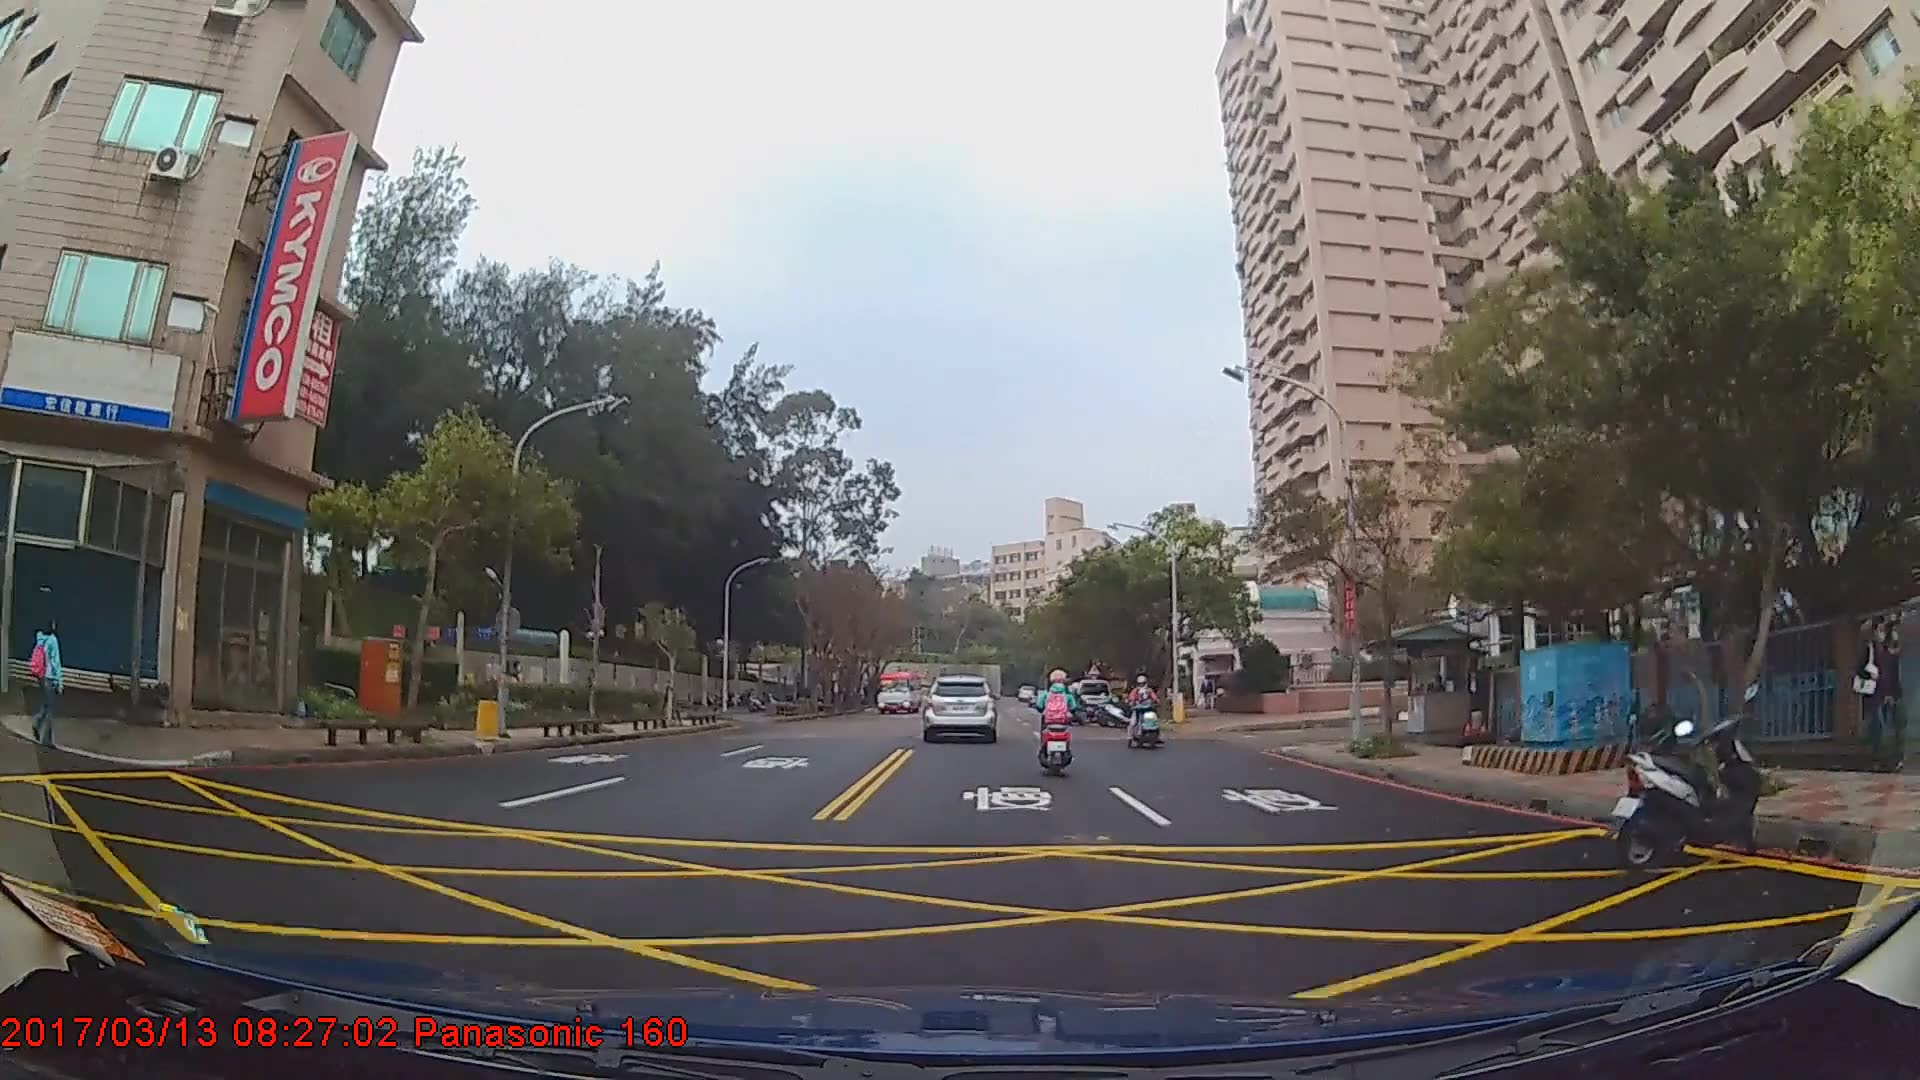pedestrian: (1851, 621, 1911, 777), (1852, 619, 1900, 776), (21, 609, 71, 755)
rider: (1033, 665, 1080, 780), (1127, 675, 1164, 748)
vehicle: (921, 672, 996, 743), (876, 666, 925, 710)
